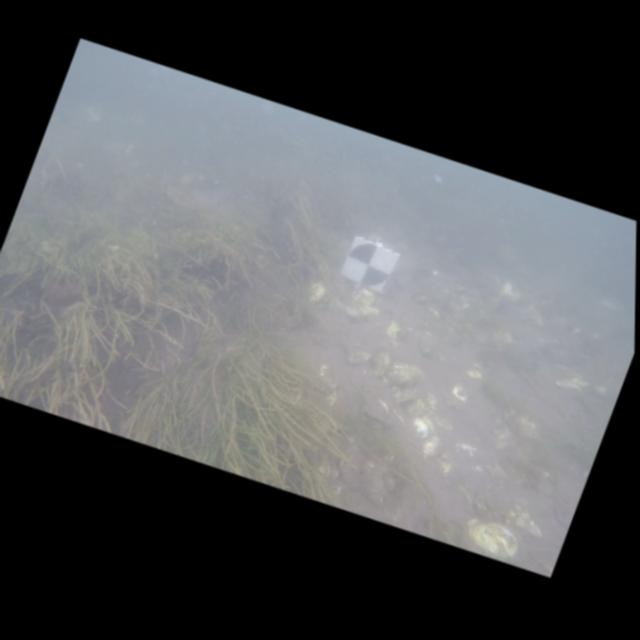Oyster-Closed: (468, 519, 518, 559), (357, 456, 393, 509), (386, 364, 424, 387), (318, 365, 337, 391), (374, 349, 391, 378), (352, 289, 374, 308), (437, 452, 452, 473), (349, 351, 371, 364)
Oyster-Indeterminate: (445, 386, 467, 411), (404, 398, 425, 418), (422, 437, 440, 458), (385, 319, 400, 341), (309, 282, 325, 302), (413, 418, 429, 438), (456, 443, 477, 457), (394, 390, 416, 403), (325, 391, 339, 405)
Oyster-Open: (359, 399, 389, 429), (344, 306, 380, 326), (397, 326, 409, 341)
